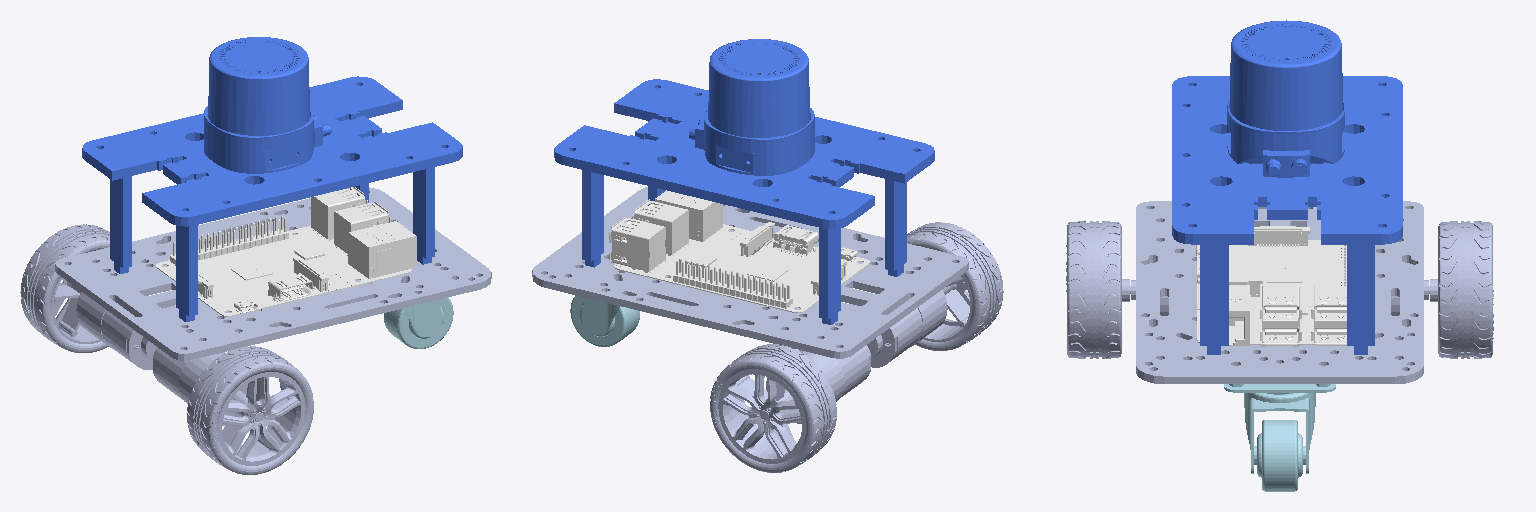
URDF robot description (robot_description):
<?xml version="1.0" encoding="utf-8"?>
<!-- This URDF was automatically created by SolidWorks to URDF Exporter! Originally created by Stephen Brawner (brawner@gmail.com) 
     Commit Version: 1.6.0-4-g7f85cfe  Build Version: 1.6.7995.38578
     For more information, please see http://wiki.ros.org/sw_urdf_exporter -->
<robot
  name="robot_description">
  <link
    name="base_link">
    <inertial>
      <origin
        xyz="2.6246E-14 2.3582E-14 -0.0015"
        rpy="0 0 0" />
      <mass
        value="0.039002" />
      <inertia
        ixx="3.2716E-05"
        ixy="-2.1462E-13"
        ixz="-2.6892E-20"
        iyy="6.7767E-05"
        iyz="1.2263E-20"
        izz="0.00010042" />
    </inertial>
    <visual>
      <origin
        xyz="0 0 0"
        rpy="0 0 0" />
      <geometry>
        <mesh
          filename="package://robot_description/meshes/base_link.STL" />
      </geometry>
      <material
        name="">
        <color
          rgba="0.79216 0.81961 0.93333 1" />
      </material>
    </visual>
    <collision>
      <origin
        xyz="0 0 0"
        rpy="0 0 0" />
      <geometry>
        <mesh
          filename="package://robot_description/meshes/base_link.STL" />
      </geometry>
    </collision>
  </link>
  <link
    name="wheel_left_Link">
    <inertial>
      <origin
        xyz="3.2081E-06 -0.027055 0.00013509"
        rpy="0 0 0" />
      <mass
        value="0.035371" />
      <inertia
        ixx="7.2964E-06"
        ixy="-1.2651E-09"
        ixz="-6.992E-11"
        iyy="7.5055E-06"
        iyz="1.0517E-07"
        izz="7.2459E-06" />
    </inertial>
    <visual>
      <origin
        xyz="0 0 0"
        rpy="0 0 0" />
      <geometry>
        <mesh
          filename="package://robot_description/meshes/wheel_left_Link.STL" />
      </geometry>
      <material
        name="">
        <color
          rgba="0.79216 0.81961 0.93333 1" />
      </material>
    </visual>
    <collision>
      <origin
        xyz="0 0 0"
        rpy="0 0 0" />
      <geometry>
        <mesh
          filename="package://robot_description/meshes/wheel_left_Link.STL" />
      </geometry>
    </collision>
  </link>
  <joint
    name="wheel_left_joint"
    type="continuous">
    <origin
      xyz="-0.048791 0.0715 -0.023"
      rpy="0 0 0" />
    <parent
      link="base_link" />
    <child
      link="wheel_left_Link" />
    <axis
      xyz="0 -1 0" />
  </joint>
  <link
    name="wheel_right_Link">
    <inertial>
      <origin
        xyz="-3.2081E-06 0.027055 0.00013509"
        rpy="0 0 0" />
      <mass
        value="0.035371" />
      <inertia
        ixx="7.2964E-06"
        ixy="-1.2651E-09"
        ixz="6.992E-11"
        iyy="7.5055E-06"
        iyz="-1.0517E-07"
        izz="7.2459E-06" />
    </inertial>
    <visual>
      <origin
        xyz="0 0 0"
        rpy="0 0 0" />
      <geometry>
        <mesh
          filename="package://robot_description/meshes/wheel_right_Link.STL" />
      </geometry>
      <material
        name="">
        <color
          rgba="0.79216 0.81961 0.93333 1" />
      </material>
    </visual>
    <collision>
      <origin
        xyz="0 0 0"
        rpy="0 0 0" />
      <geometry>
        <mesh
          filename="package://robot_description/meshes/wheel_right_Link.STL" />
      </geometry>
    </collision>
  </link>
  <joint
    name="wheel_right_joint"
    type="continuous">
    <origin
      xyz="-0.048791 -0.0715 -0.023"
      rpy="0 0 0" />
    <parent
      link="base_link" />
    <child
      link="wheel_right_Link" />
    <axis
      xyz="0 -1 0" />
  </joint>
  <link
    name="wheel_universal_Link">
    <inertial>
      <origin
        xyz="-0.0049043 0.0072459 0.0084569"
        rpy="0 0 0" />
      <mass
        value="0.010932" />
      <inertia
        ixx="1.9746E-06"
        ixy="1.5756E-10"
        ixz="7.6294E-07"
        iyy="2.4635E-06"
        iyz="-2.4689E-10"
        izz="1.3438E-06" />
    </inertial>
    <visual>
      <origin
        xyz="0 0 0"
        rpy="0 0 0" />
      <geometry>
        <mesh
          filename="package://robot_description/meshes/wheel_universal_Link.STL" />
      </geometry>
      <material
        name="">
        <color
          rgba="0.74118 0.90196 0.95686 1" />
      </material>
    </visual>
    <collision>
      <origin
        xyz="0 0 0"
        rpy="0 0 0" />
      <geometry>
        <mesh
          filename="package://robot_description/meshes/wheel_universal_Link.STL" />
      </geometry>
    </collision>
  </link>
  <joint
    name="wheel_universal_joint"
    type="fixed">
    <origin
      xyz="0.063633 -0.0072487 -0.034"
      rpy="0 0 0" />
    <parent
      link="base_link" />
    <child
      link="wheel_universal_Link" />
    <axis
      xyz="0 0 0" />
  </joint>
  <link
    name="laser_Link">
    <inertial>
      <origin
        xyz="-0.0030189 -0.00020139 -0.019649"
        rpy="0 0 0" />
      <mass
        value="0.094023" />
      <inertia
        ixx="3.4259E-05"
        ixy="-1.2348E-09"
        ixz="-2.1308E-07"
        iyy="5.7727E-05"
        iyz="-8.9097E-10"
        izz="7.5176E-05" />
    </inertial>
    <visual>
      <origin
        xyz="0 0 0"
        rpy="0 0 0" />
      <geometry>
        <mesh
          filename="package://robot_description/meshes/laser_Link.STL" />
      </geometry>
      <material
        name="">
        <color
          rgba="0.37255 0.55686 1 1" />
      </material>
    </visual>
    <collision>
      <origin
        xyz="0 0 0"
        rpy="0 0 0" />
      <geometry>
        <mesh
          filename="package://robot_description/meshes/laser_Link.STL" />
      </geometry>
    </collision>
  </link>
  <joint
    name="laser_joint"
    type="fixed">
    <origin
      xyz="-0.0064435 0.002216 0.078664"
      rpy="0 0 3.1416" />
    <parent
      link="base_link" />
    <child
      link="laser_Link" />
    <axis
      xyz="0 0 0" />
  </joint>
  <link
    name="imu_Link">
    <inertial>
      <origin
        xyz="-0.021463 0.017572 -0.010408"
        rpy="0 0 0" />
      <mass
        value="0.017226" />
      <inertia
        ixx="2.2162E-06"
        ixy="3.6168E-10"
        ixz="-1.8429E-08"
        iyy="4.9944E-06"
        iyz="3.6637E-11"
        izz="7.034E-06" />
    </inertial>
    <visual>
      <origin
        xyz="0 0 0"
        rpy="0 0 0" />
      <geometry>
        <mesh
          filename="package://robot_description/meshes/imu_Link.STL" />
      </geometry>
      <material
        name="">
        <color
          rgba="1 1 1 1" />
      </material>
    </visual>
    <collision>
      <origin
        xyz="0 0 0"
        rpy="0 0 0" />
      <geometry>
        <mesh
          filename="package://robot_description/meshes/imu_Link.STL" />
      </geometry>
    </collision>
  </link>
  <joint
    name="imu_joint"
    type="fixed">
    <origin
      xyz="0.037033 -0.018447 0.013909"
      rpy="0 0 0" />
    <parent
      link="base_link" />
    <child
      link="imu_Link" />
    <axis
      xyz="0 0 0" />
  </joint>
</robot>

--- What the picture shows (computed from the rendered views, not written in the file) ---
Views: 3 orthographic renders of the robot side by side, from view 1: azimuth 30°, elevation 25°; view 2: azimuth 150°, elevation 25°; view 3: azimuth 270°, elevation 25°.
Robot: robot_description — 6 links, 5 joints (2 continuous, 3 fixed); root link base_link; default pose: every joint at zero.
Visible links, largest first — view 1: laser_Link, base_link, imu_Link, wheel_right_Link, wheel_left_Link, wheel_universal_Link; view 2: laser_Link, base_link, imu_Link, wheel_left_Link, wheel_right_Link, wheel_universal_Link; view 3: laser_Link, base_link, imu_Link, wheel_left_Link, wheel_right_Link, wheel_universal_Link.
Boxes of the visible links, <box> form: laser_Link: <box>82,37,462,321</box>; base_link: <box>55,187,491,360</box>; imu_Link: <box>156,187,416,316</box>; wheel_right_Link: <box>153,346,313,474</box>; wheel_left_Link: <box>20,224,172,369</box>; wheel_universal_Link: <box>384,297,453,348</box>; laser_Link: <box>554,39,934,324</box>; base_link: <box>532,187,968,358</box>; imu_Link: <box>609,190,869,312</box>; wheel_left_Link: <box>710,344,870,472</box>; wheel_right_Link: <box>851,222,1003,367</box>; wheel_universal_Link: <box>570,295,639,346</box>; laser_Link: <box>1172,20,1402,354</box>; base_link: <box>1136,201,1423,383</box>; imu_Link: <box>1196,226,1346,346</box>; wheel_left_Link: <box>1391,221,1493,358</box>; wheel_right_Link: <box>1066,221,1168,358</box>; wheel_universal_Link: <box>1224,384,1335,491</box>.
Size in the robot's own frame: 0.1489 by 0.1483 by 0.1386 metres.
Meshes: 6 distinct files referenced, 6 mesh visuals loaded (6 binary STL).
